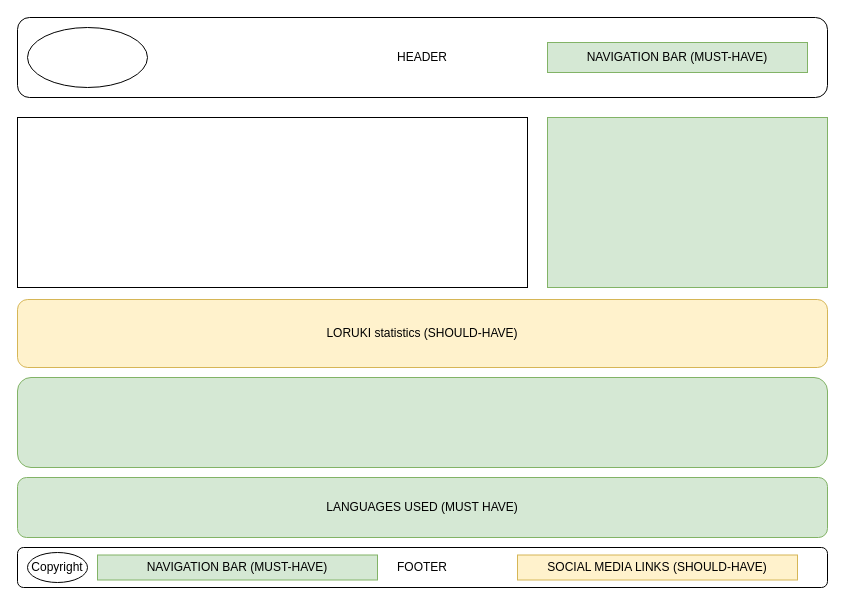
The diagram is 845 pixels wide and 605 high, and some of its shapes have lost their labels. The centre of each missing label's shape, as x and y in pixels:
"DEMO REQUEST FORM (MUST-HAVE)" belongs at (x=687, y=202).
"INFORMATION ON HOW TO INSTALL" belongs at (x=422, y=422).
"INTRODUCTION. LINK TO FEATURES" belongs at (x=272, y=202).
"LOGO" belongs at (x=87, y=57).
